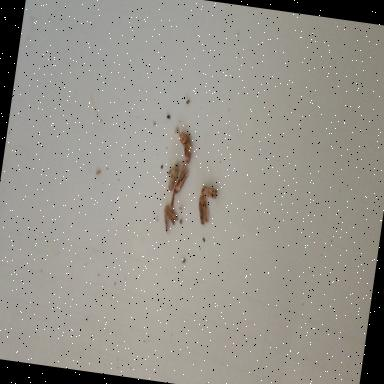pbw: (160, 205, 180, 234), (194, 192, 212, 224), (174, 162, 190, 195), (176, 130, 195, 154), (166, 160, 180, 190), (200, 184, 219, 198)
